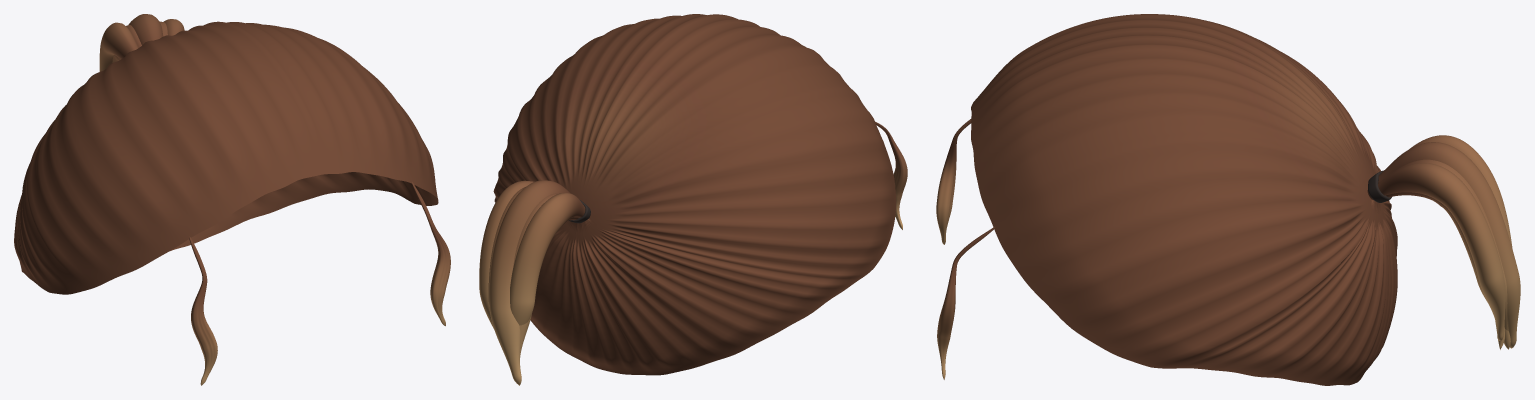
Rendered from ponytail-cap-ombre.glb.
The picture shows the model from 3 angles, left to right: view 1: azimuth 30°, elevation 25°; view 2: azimuth 150°, elevation 25°; view 3: azimuth 270°, elevation 25°; orthographic projection. The views are drawn at different scales.
Visible parts, largest first — view 1: Hair / swept roots220, Hair / adjustable front216 -1, Hair / adjustable front216 1, Hair / rounded tail220 0, Hair / rounded tail220 2; view 2: Hair / swept roots220, Hair / rounded tail220 2, Hair / rounded tail220 0, Hair / rounded tail220 4, Hair / adjustable front216 -1, Hair / rounded tail220 1; view 3: Hair / swept roots220, Hair / rounded tail220 4, Hair / rounded tail220 2, Hair / adjustable front216 -1, Hair / adjustable front216 1, Hair / rounded tail220 3, Hair / rounded tail220 0.
Boxes of the visible parts, box(x1,y1,x2,y2) form: Hair / swept roots220: box(14, 21, 438, 294); Hair / adjustable front216 -1: box(189, 236, 217, 385); Hair / adjustable front216 1: box(412, 182, 450, 326); Hair / rounded tail220 0: box(99, 22, 138, 71); Hair / rounded tail220 2: box(128, 14, 163, 45); Hair / swept roots220: box(493, 14, 895, 375); Hair / rounded tail220 2: box(489, 180, 570, 385); Hair / rounded tail220 0: box(510, 193, 590, 325); Hair / rounded tail220 4: box(479, 180, 534, 328); Hair / adjustable front216 -1: box(875, 121, 907, 229); Hair / rounded tail220 1: box(513, 193, 578, 357); Hair / swept roots220: box(971, 14, 1397, 385); Hair / rounded tail220 4: box(1367, 163, 1505, 340); Hair / rounded tail220 2: box(1378, 142, 1520, 348); Hair / adjustable front216 -1: box(936, 119, 971, 244); Hair / adjustable front216 1: box(937, 226, 995, 379); Hair / rounded tail220 3: box(1375, 159, 1508, 330); Hair / rounded tail220 0: box(1410, 135, 1512, 349).
Bounding box in the file's own units: 0.779 × 0.5776 × 0.9355.
9 materials, 8 textured.
